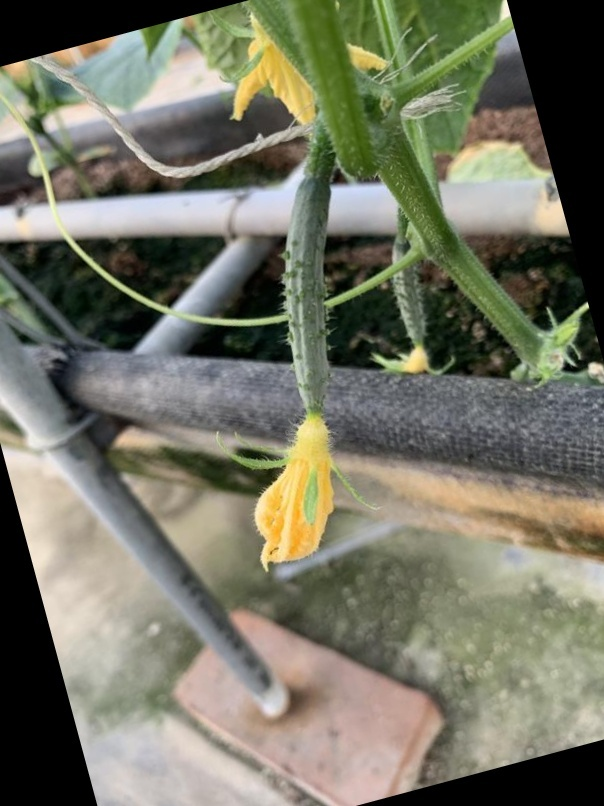bear: (210, 162, 380, 565)
